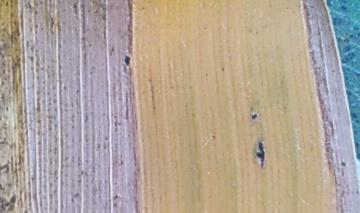tarspot: (255, 141, 265, 167), (124, 54, 131, 67), (251, 111, 259, 120)
